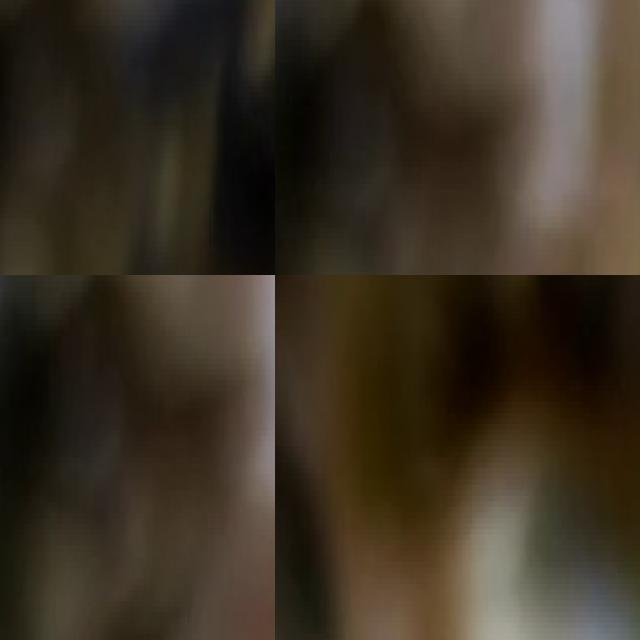fish: (275, 275, 640, 640), (0, 0, 275, 275)
